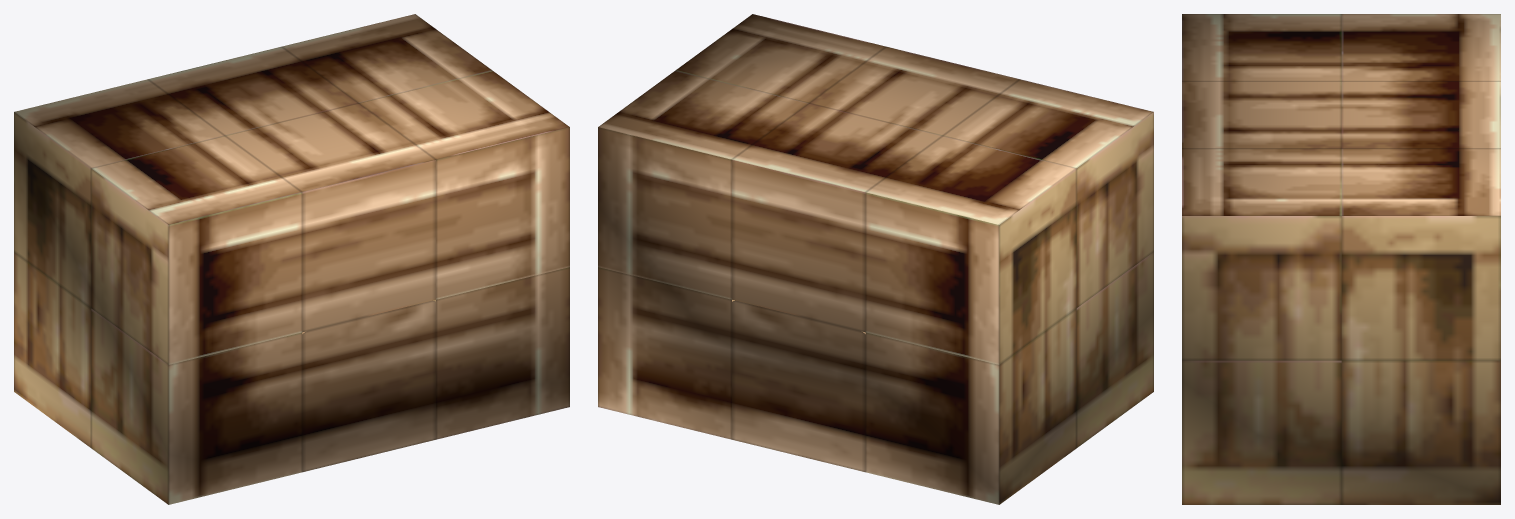
The picture shows the model from 3 angles, left to right: view 1: azimuth 30°, elevation 25°; view 2: azimuth 150°, elevation 25°; view 3: azimuth 270°, elevation 25°; orthographic projection. The views are drawn at different scales.
Parts seen in each view (by area): view 1: T1L2M007_0; view 2: T1L2M007_0; view 3: T1L2M007_0.
Part boxes in pixels (bbox=[...]): T1L2M007_0: bbox=[14, 14, 569, 504]; T1L2M007_0: bbox=[598, 14, 1153, 504]; T1L2M007_0: bbox=[1182, 14, 1500, 504].
Size of the model in its own units: 2.4 by 1.6 by 1.6.
1 material, 1 textured.
